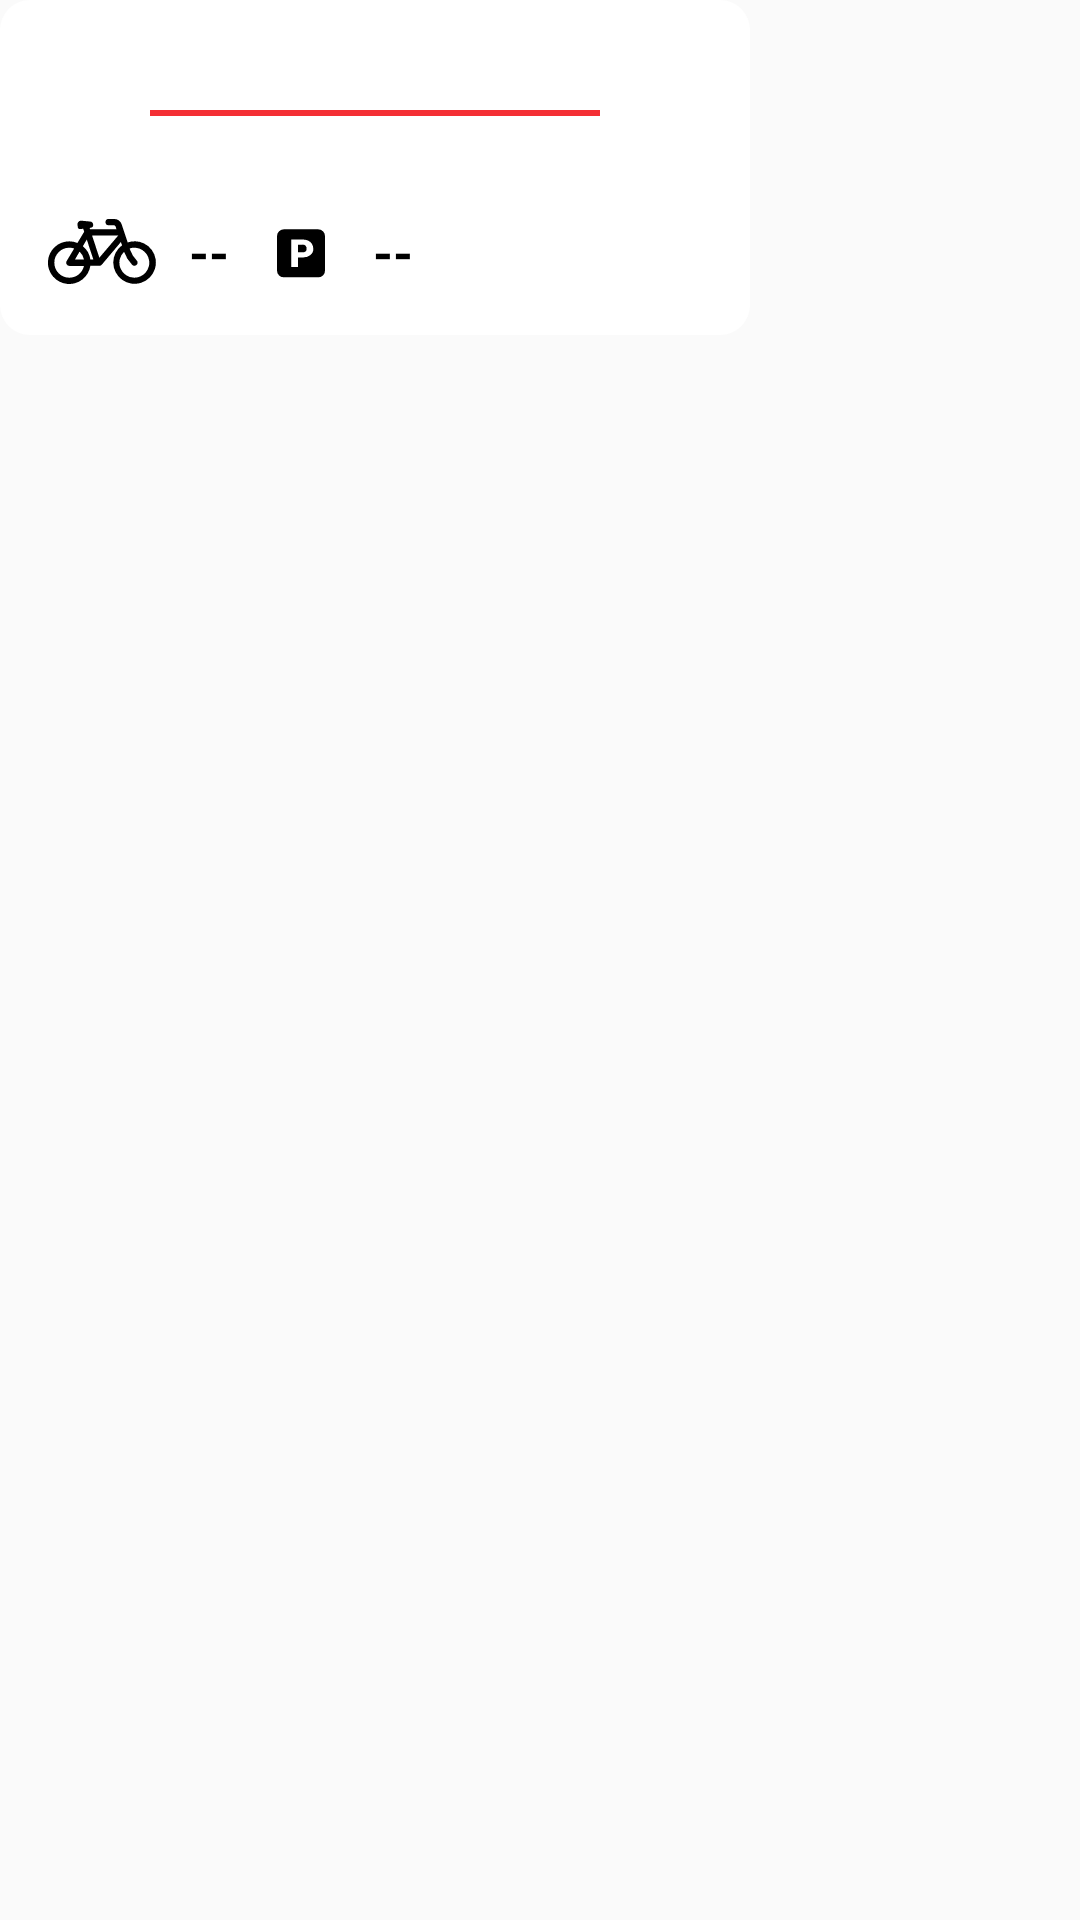

Named icons in this screenshot (1080*1920) and their bounding boxes, box=[x1, y1, x2, y2]:
places dispos: box=[277, 229, 325, 278]
velo: box=[48, 219, 156, 284]
